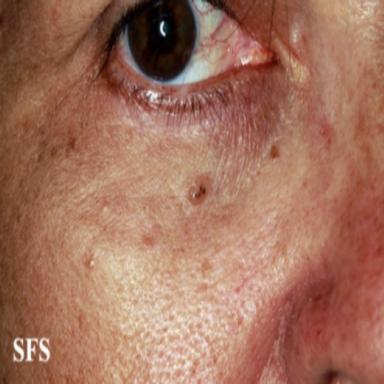basal-cell-carcinoma: (188, 176, 210, 205)
